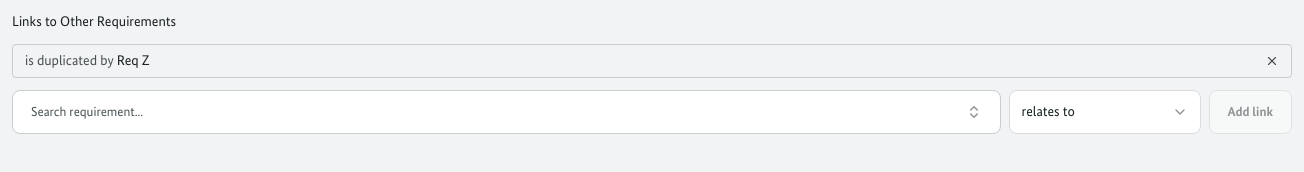
Scenario: RequirementDependenciesSection › duplicated_by dep remove button stages removal
Click the button named "Remove dependency to Req Z".
click(1272, 61)  # box [1265,54,1279,68]
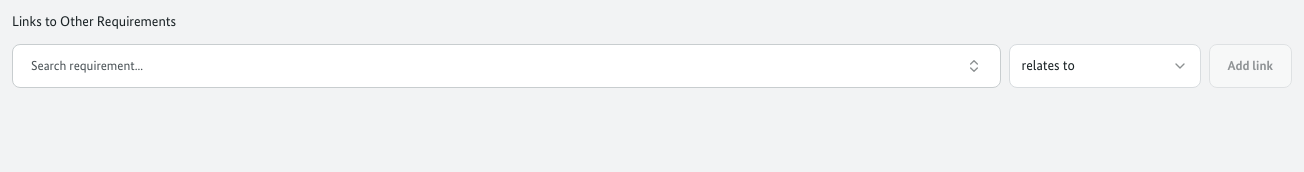
Expected: the text "Req Z" is gone
